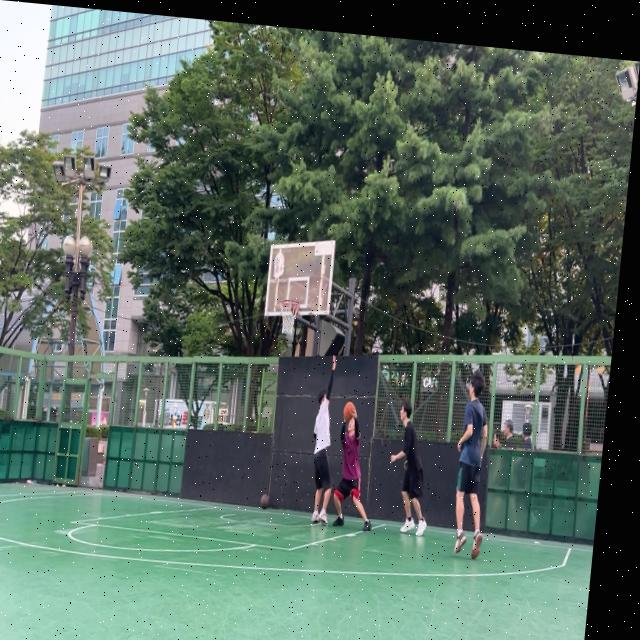basketball: (343, 401, 356, 423), (260, 493, 270, 510)
hoop: (277, 299, 300, 337)
